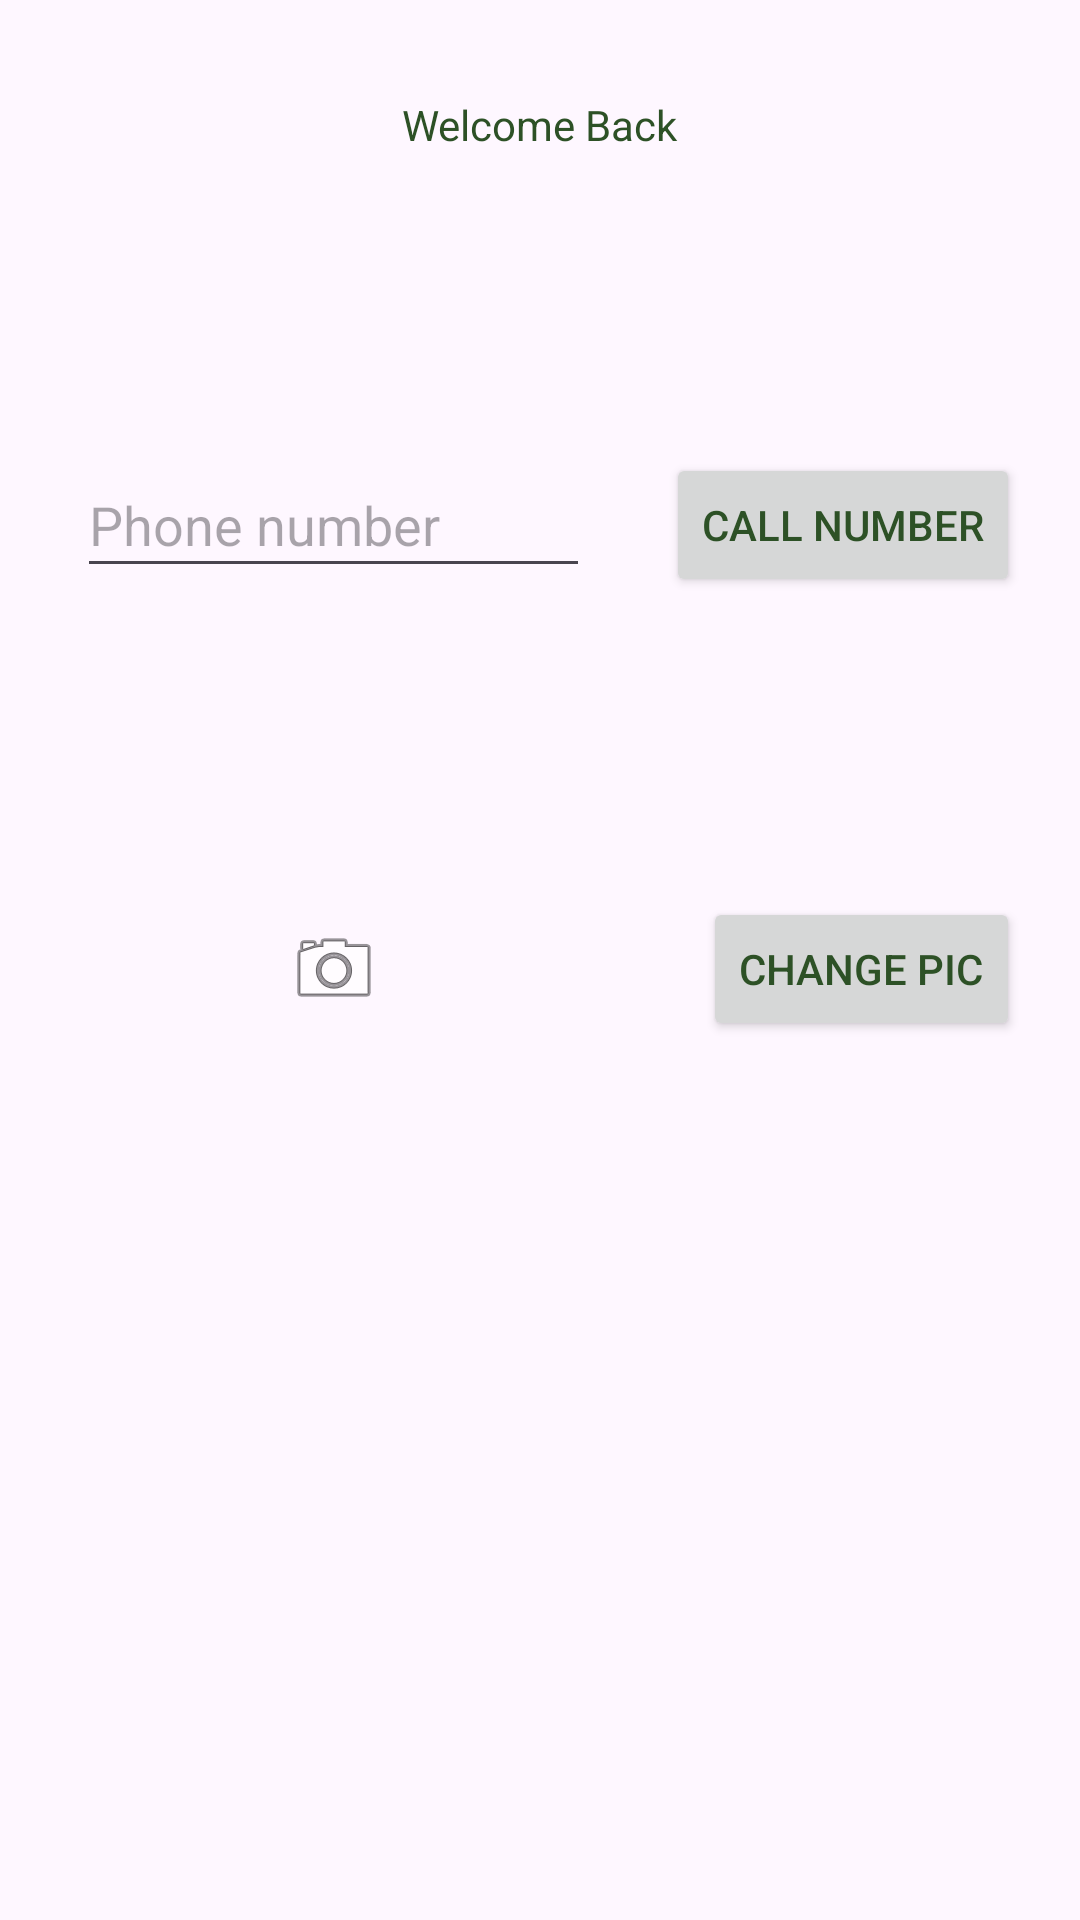

Icons on this 1080px×1920px Android screen, each with the point to tap as (x,y):
camera: (334,967)
